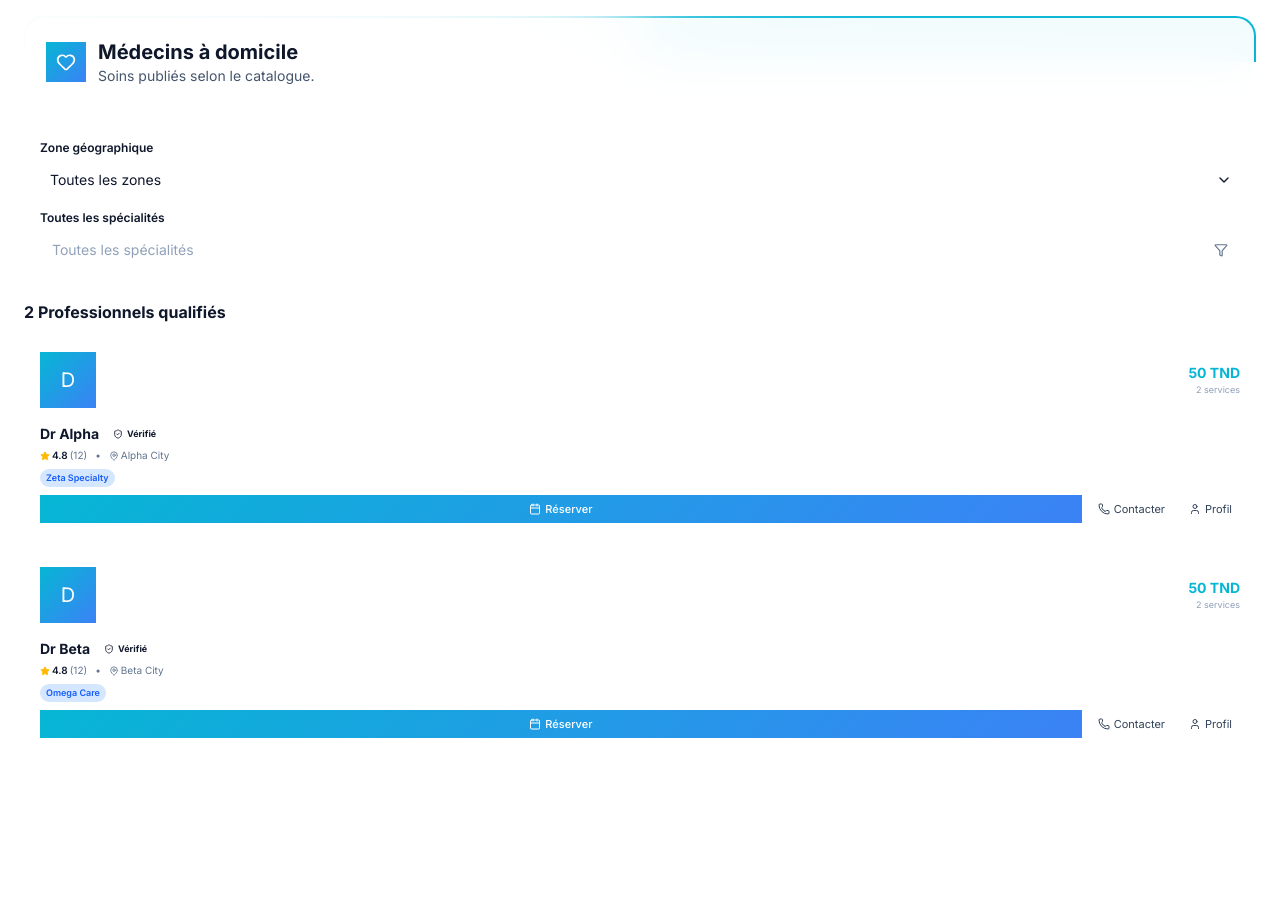
Test: Service discovery honesty cleanup › derives care zones and doctor specialities from the live provider list
Press ArrowDown in the dropdown named "Zone géographique", box [40,162,1240,198]
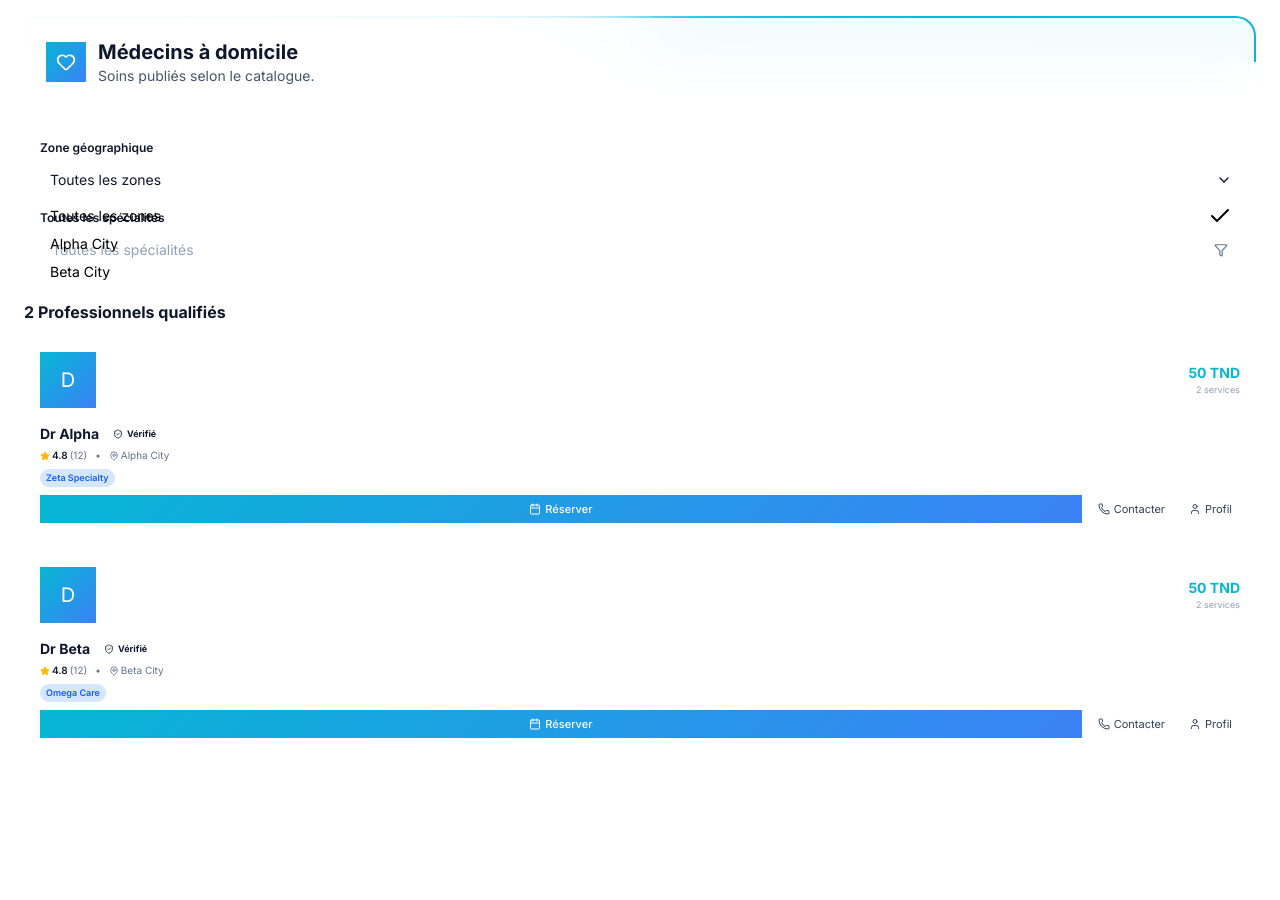
Expected: the number of options is 3, [44,202,1236,230]; [50,235,118,252]; [50,263,110,280]
Press Escape in the list, box [40,198,1240,290]
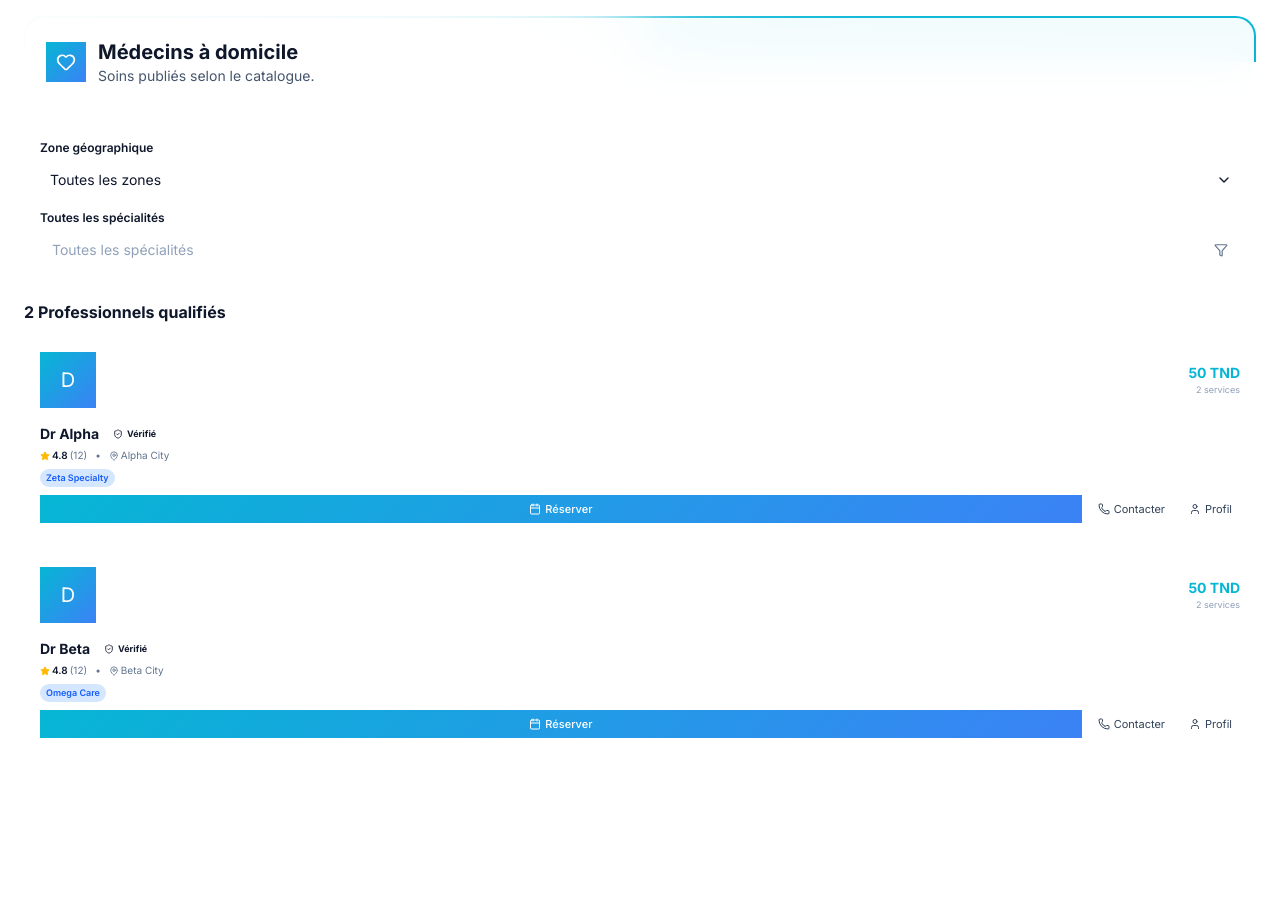
Click the button "Toutes les spécialités" at (123, 250), box [40,232,1240,268]
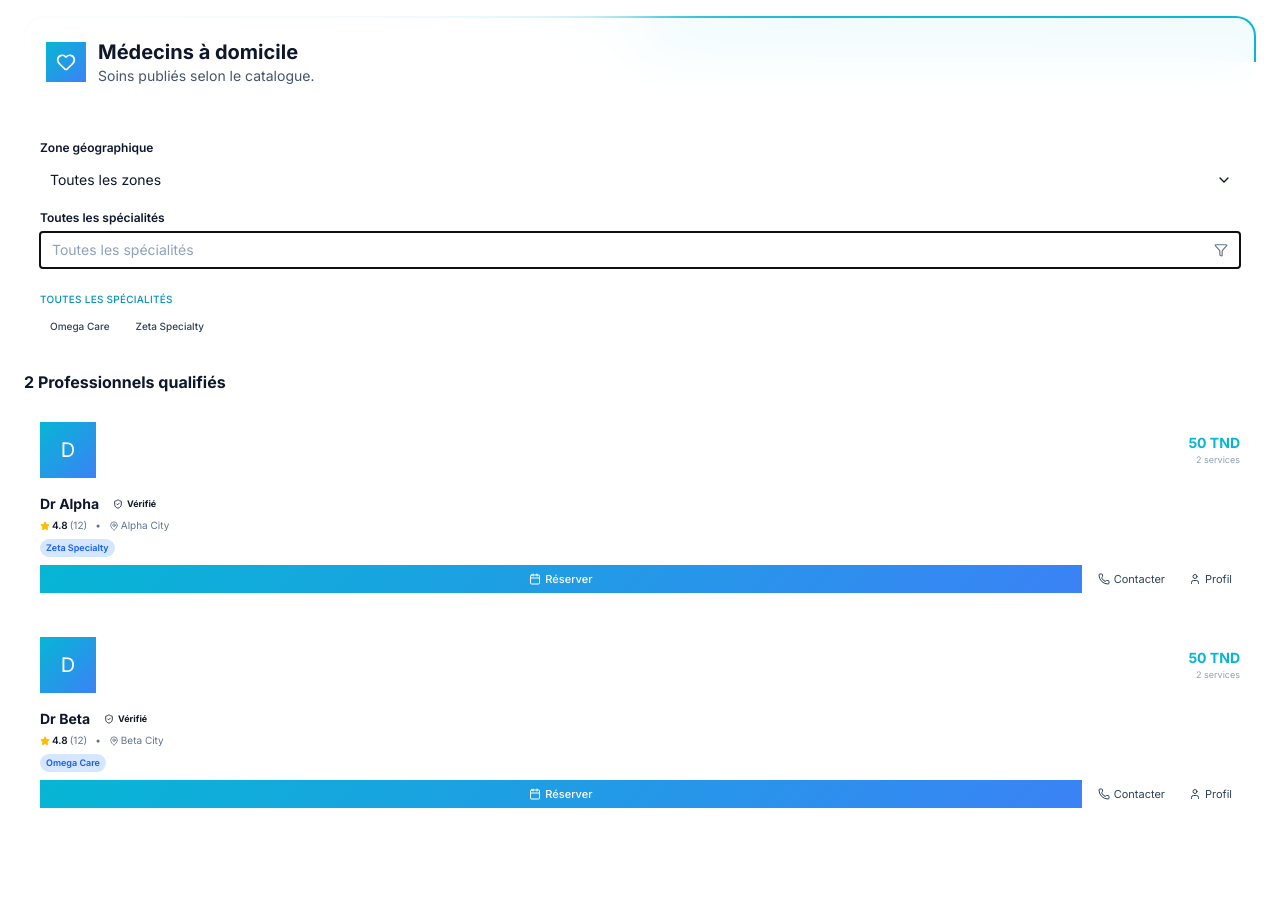
Click the button "Zeta Specialty" at (170, 326), box [126,315,214,338]
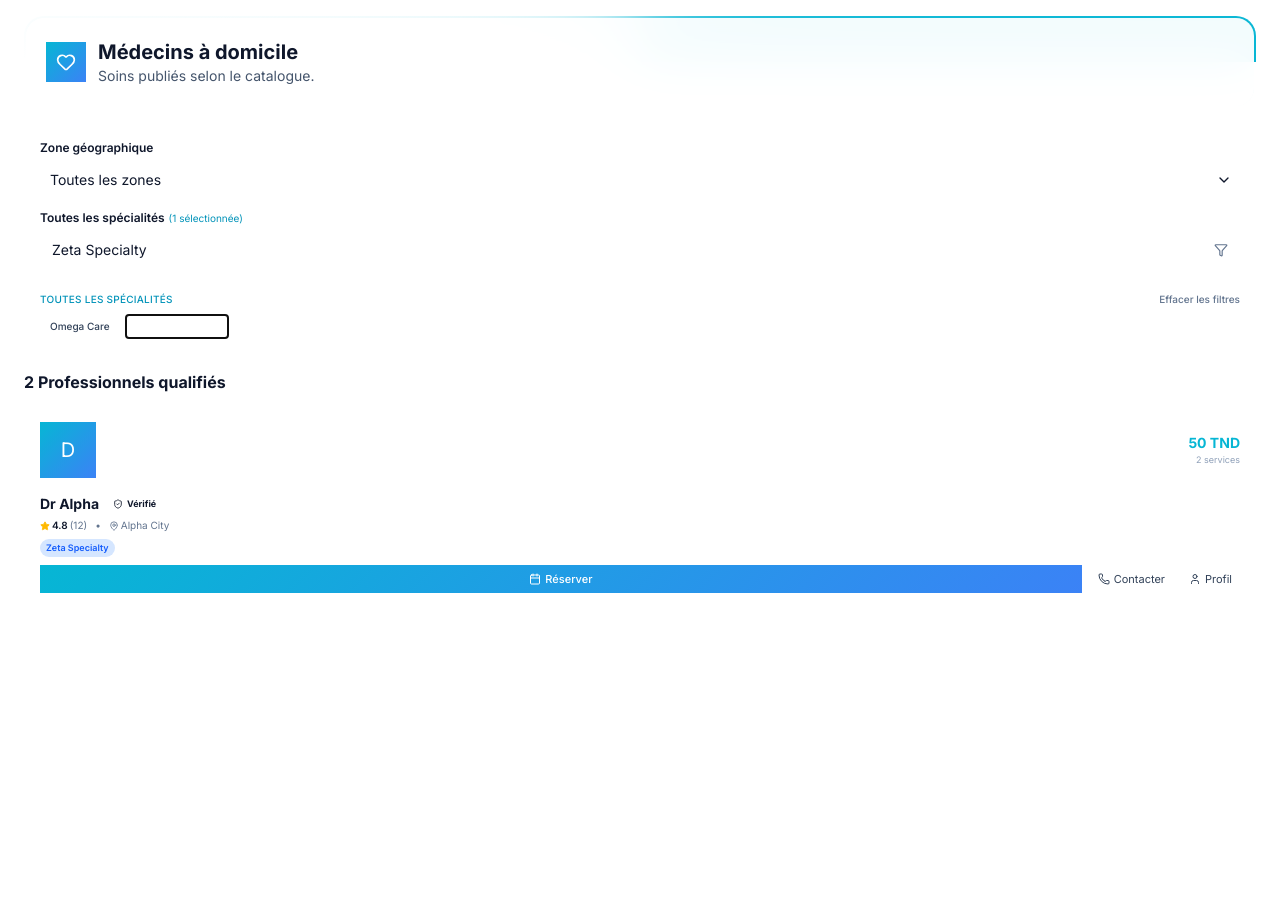
Expected: the heading "Dr Alpha" is shown, [40,494,99,514]
Expected: the heading "Dr Beta" is gone
